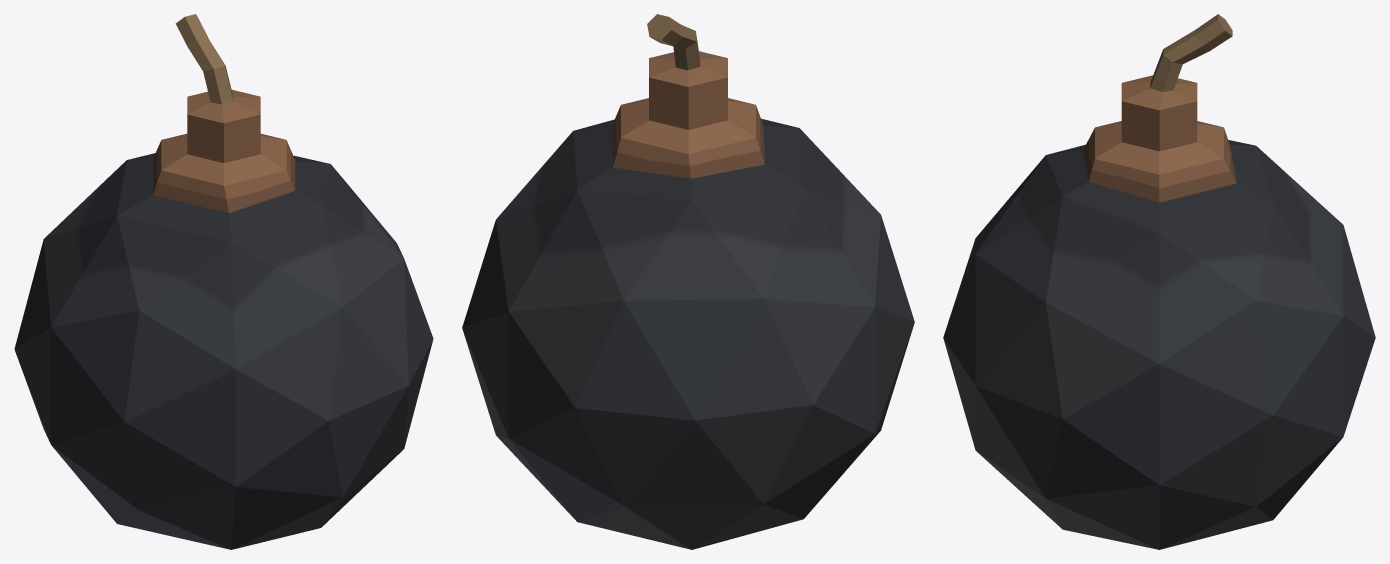
File: SM_Prop_Cannonball_04.fbx
3 renders of one model, left to right at view 1: azimuth 30°, elevation 25°; view 2: azimuth 150°, elevation 25°; view 3: azimuth 270°, elevation 25°, orthographic. The views are drawn at different scales.
Visible parts, largest first — view 1: SM_Prop_Cannonball_04; view 2: SM_Prop_Cannonball_04; view 3: SM_Prop_Cannonball_04.
Part boxes in pixels (bbox=[...]): SM_Prop_Cannonball_04: bbox=[14, 14, 433, 549]; SM_Prop_Cannonball_04: bbox=[462, 14, 914, 549]; SM_Prop_Cannonball_04: bbox=[943, 14, 1375, 549].
Size of the model in its own units: 19.59 by 27.02 by 20.59.
